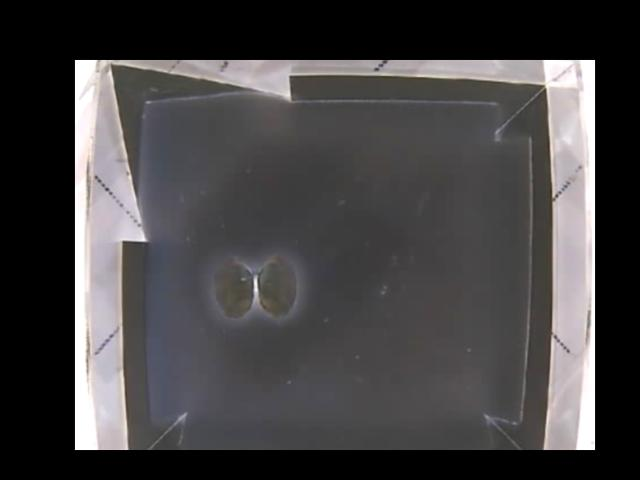Shell: (212, 255, 295, 320)
